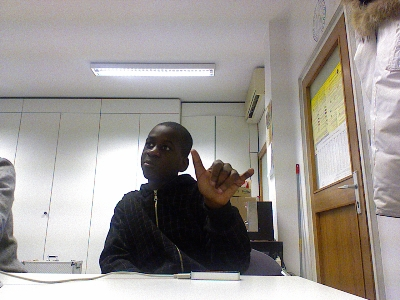六六六: (188, 147, 255, 206)
